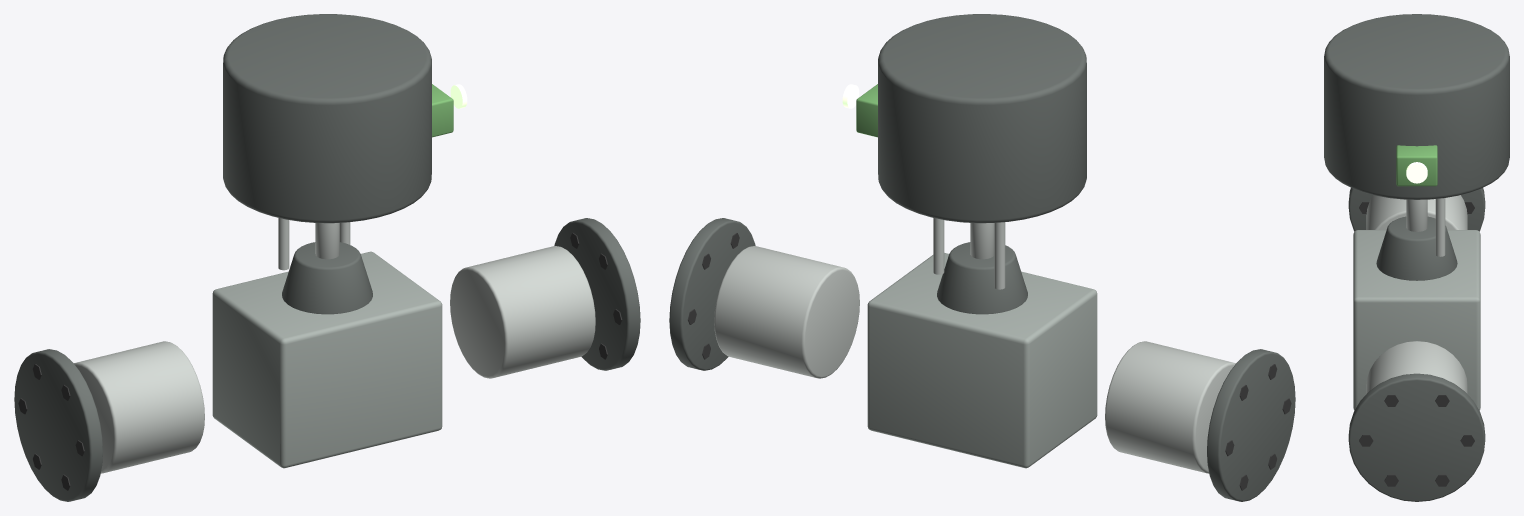
Rendered from control-valve.glb.
The picture shows the model from 3 angles, left to right: view 1: azimuth 30°, elevation 25°; view 2: azimuth 150°, elevation 25°; view 3: azimuth 270°, elevation 25°; orthographic projection. The views are drawn at different scales.
Visible parts, largest first — view 1: actuator_body, valve_body, pipe_right, pipe_left, flange_left, flange_right, bonnet, positioner_box, stem; view 2: actuator_body, valve_body, pipe_right, pipe_left, flange_left, flange_right, bonnet, positioner_box, stem, yoke_left; view 3: actuator_body, valve_body, flange_right, bonnet, pipe_right, pipe_left, positioner_box, flange_left, stem, yoke_right, positioner_dial.
Boxes of the visible parts, bbox=[...] form: actuator_body: bbox=[223, 14, 431, 223]; valve_body: bbox=[212, 251, 442, 468]; pipe_right: bbox=[450, 246, 595, 378]; pipe_left: bbox=[74, 341, 204, 473]; flange_left: bbox=[14, 349, 102, 501]; flange_right: bbox=[554, 218, 640, 370]; bonnet: bbox=[282, 242, 372, 314]; positioner_box: bbox=[432, 84, 453, 137]; stem: bbox=[315, 223, 339, 259]; actuator_body: bbox=[878, 14, 1086, 223]; valve_body: bbox=[867, 253, 1097, 468]; pipe_right: bbox=[714, 246, 859, 378]; pipe_left: bbox=[1105, 341, 1235, 473]; flange_left: bbox=[1207, 349, 1295, 501]; flange_right: bbox=[669, 218, 755, 370]; bonnet: bbox=[937, 242, 1027, 314]; positioner_box: bbox=[856, 84, 877, 137]; stem: bbox=[970, 223, 994, 259]; yoke_left: bbox=[994, 222, 1005, 289]; actuator_body: bbox=[1324, 14, 1509, 199]; valve_body: bbox=[1353, 230, 1480, 410]; flange_right: bbox=[1348, 373, 1485, 501]; bonnet: bbox=[1376, 216, 1457, 280]; pipe_right: bbox=[1366, 341, 1467, 393]; pipe_left: bbox=[1366, 195, 1467, 229]; positioner_box: bbox=[1396, 145, 1437, 186]; flange_left: bbox=[1348, 188, 1485, 231]; stem: bbox=[1406, 199, 1427, 231]; yoke_right: bbox=[1435, 198, 1445, 256]; positioner_dial: bbox=[1406, 162, 1427, 183].
Bounding box in the file's own units: 5.8 × 3.75 × 1.9.
